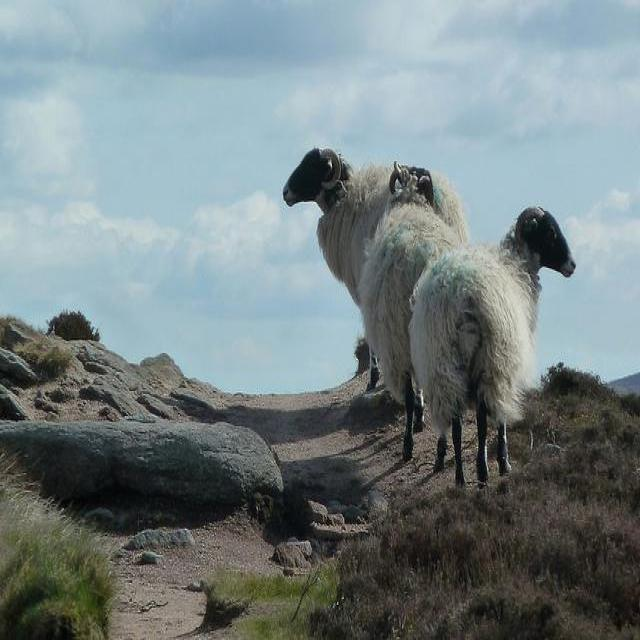Sheep: (414, 205, 578, 485), (356, 158, 463, 466), (283, 151, 469, 300)
